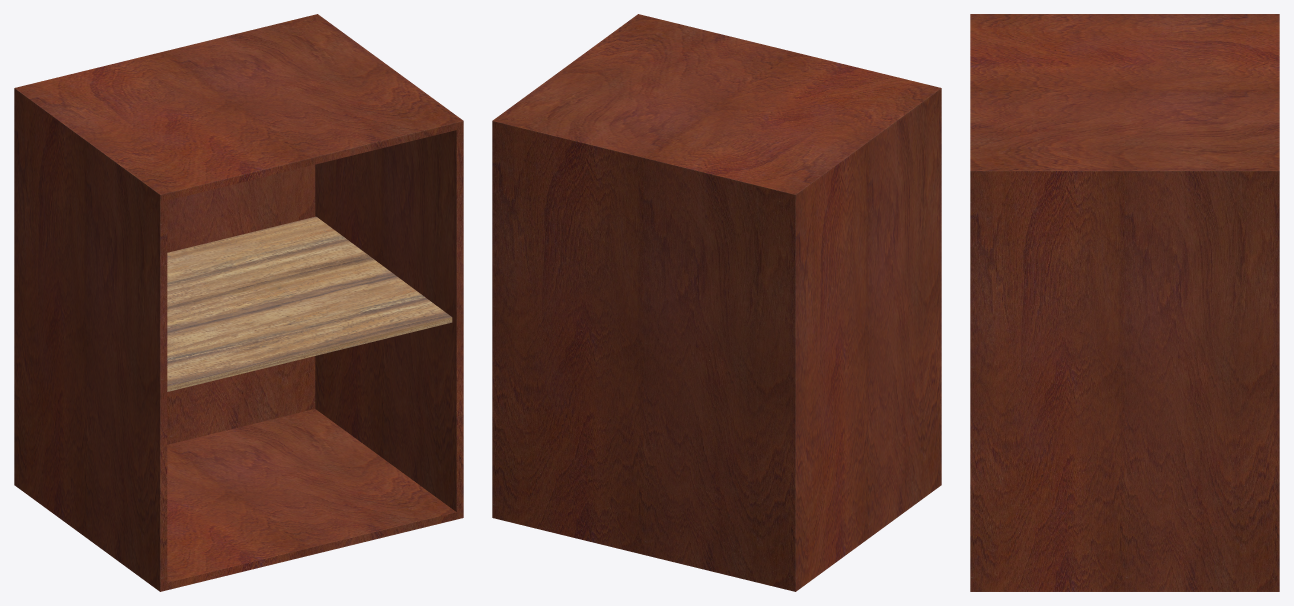
File: cabinet.gltf
The picture shows the model from 3 angles, left to right: view 1: azimuth 30°, elevation 25°; view 2: azimuth 150°, elevation 25°; view 3: azimuth 270°, elevation 25°; orthographic projection. The views are drawn at different scales.
Parts seen in each view (by area): view 1: Shell (type 100), Horizontal shelf (type 100); view 2: Shell (type 100); view 3: Shell (type 100).
Boxes of the visible parts, left/top/right/bottom form: Shell (type 100): left=14, top=14, right=463, bottom=591; Horizontal shelf (type 100): left=167, top=216, right=452, bottom=391; Shell (type 100): left=492, top=14, right=941, bottom=591; Shell (type 100): left=970, top=14, right=1279, bottom=591.
Bounding box in the file's own units: 120 × 150 × 100.
2 materials, 2 textured.
